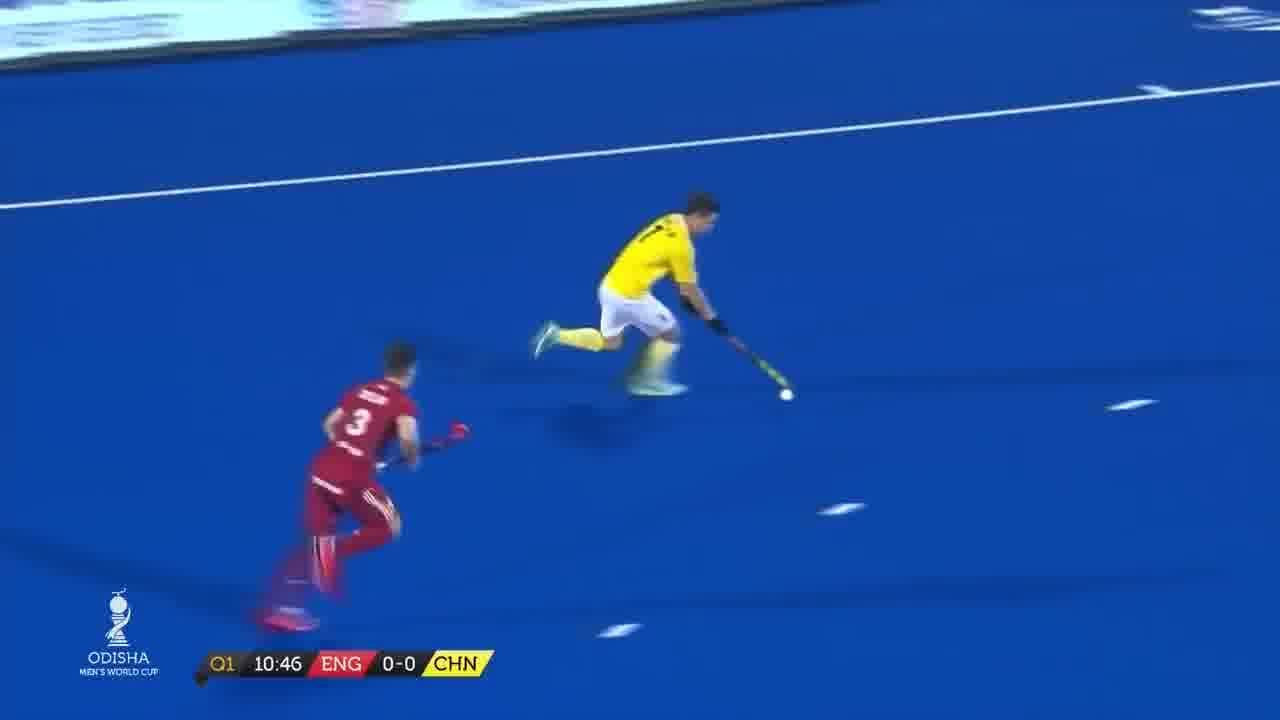ball: (776, 385, 798, 406)
